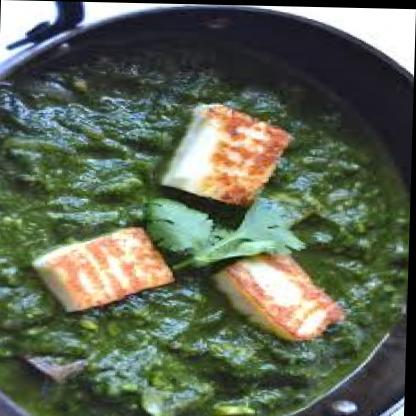palak_paneer: (0, 34, 415, 416)
